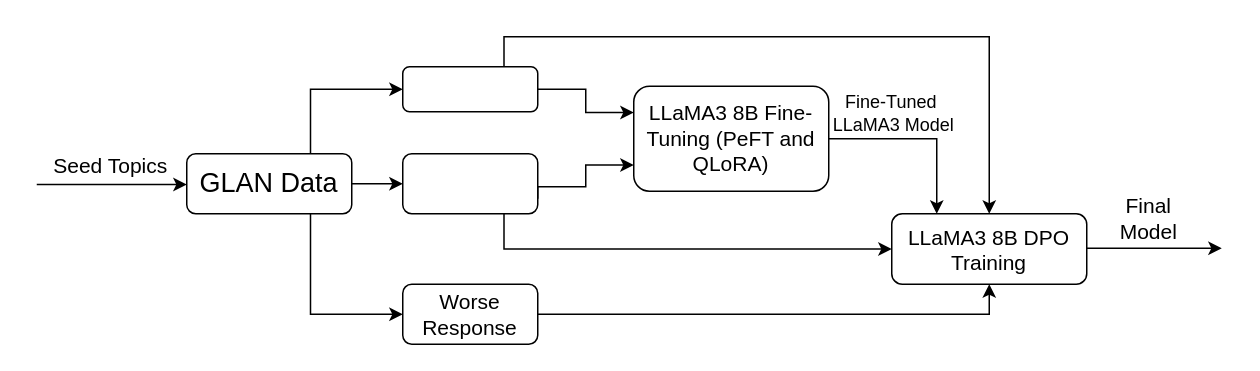
The diagram is 1260 pixels wide and 371 high, and some of its shapes have lost their labels. Each missing label, with the centre of its shape:
"Better Response" belongs at point (469, 183).
"User Input" belongs at point (469, 88).
